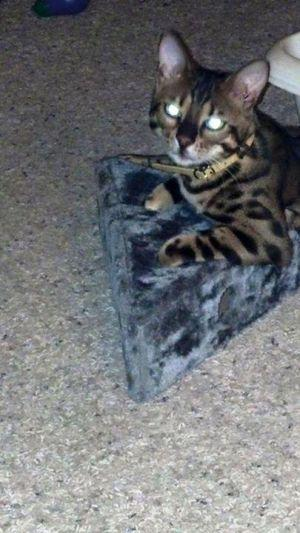bengal: (136, 19, 280, 181)
